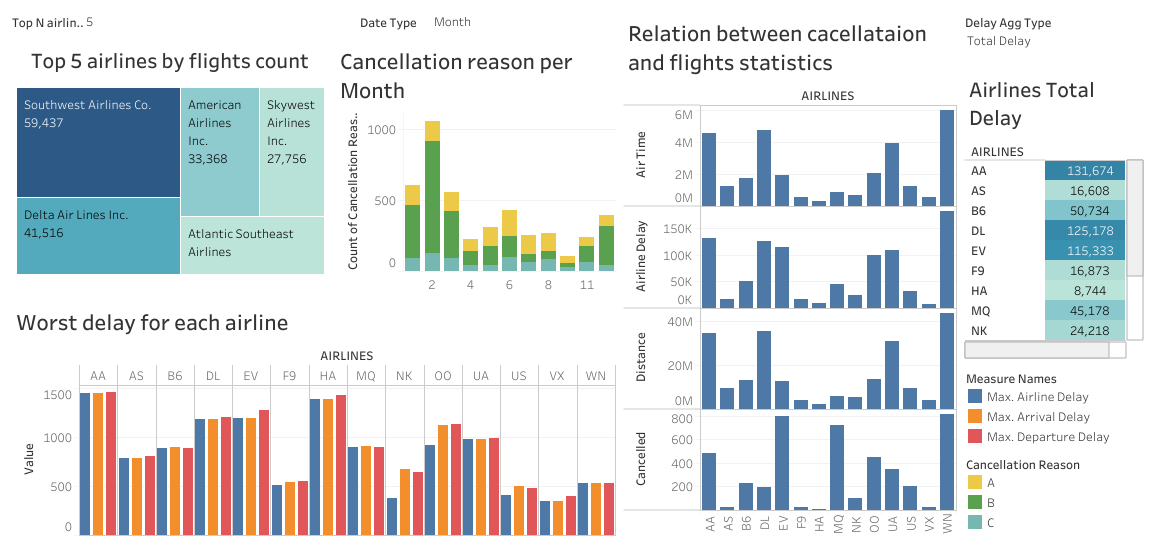

What the dashboard file says about the page in this screenshot:
{"tool":"tableau","page":{"name":"Dashboard 1","canvas":[1000,1000],"units":"permille","ordinal":0},"visuals":[{"type":"worksheet","title":"Sheet 6 (2)","mark":"Automatic","box":[7,13,105.5,193.9]},{"type":"worksheet","title":"Sheet 6 (6)","mark":"Automatic","box":[112.6,13,105.7,193.9]},{"type":"worksheet","title":"Sheet 6","mark":"Automatic","box":[218.2,13,171.6,193.9]},{"type":"worksheet","title":"Sheet 6 (3)","mark":"Automatic","box":[389.8,13,119.4,193.9]},{"type":"worksheet","title":"Sheet 6 (4)","mark":"Automatic","box":[509.2,13,177.3,193.9]},{"type":"worksheet","title":"Sheet 6 (5)","mark":"Automatic","box":[686.6,13,166,193.9]},{"type":"filter","title":"Sheet 6","param":"[federated.0olwbpc1j0nxiz11mnao608j8uqc].[none:title:nk]","box":[852.5,13,140.5,84.4]},{"type":"filter","title":"Sheet 6","param":"[federated.0olwbpc1j0nxiz11mnao608j8uqc].[none:type:nk]","box":[852.5,97.4,140.5,84.4]},{"type":"worksheet","title":"Sheet 1","mark":"Automatic","box":[7,206.9,445.1,430.9]},{"type":"worksheet","title":"Sheet 5","mark":"Automatic","rows":["show_id"],"cols":["rating"],"box":[452.1,206.9,400.4,273.4]},{"type":"worksheet","title":"Sheet 4","mark":"Pie","box":[852.5,207.6,140.5,779.4]},{"type":"worksheet","title":"Sheet 3","mark":"Automatic","rows":["listed_in"],"cols":["show_id"],"box":[452.1,480.3,400.4,506.7]},{"type":"worksheet","title":"Sheet 2","mark":"Automatic","rows":["show_id"],"cols":["date_added"],"box":[7,637.8,445.1,349.2]}]}

Visuals, with their boxes on the dashboard's canvas, which has no fixed pixel size, in thousandths of its width and height (x1, y1, x2, y2). These are canvas units, not pixel positions in the 1155x547 screenshot, which may show the page scaled, cropped or inside an application window:
"Sheet 6 (2)" worksheet: (7, 13, 112, 207)
"Sheet 6 (6)" worksheet: (113, 13, 218, 207)
"Sheet 6" worksheet: (218, 13, 390, 207)
"Sheet 6 (3)" worksheet: (390, 13, 509, 207)
"Sheet 6 (4)" worksheet: (509, 13, 686, 207)
"Sheet 6 (5)" worksheet: (687, 13, 853, 207)
"Sheet 6" filter: (852, 13, 993, 97)
"Sheet 6" filter: (852, 97, 993, 182)
"Sheet 1" worksheet: (7, 207, 452, 638)
"Sheet 5" worksheet: (452, 207, 852, 480)
"Sheet 4" worksheet (Pie marks): (852, 208, 993, 987)
"Sheet 3" worksheet: (452, 480, 852, 987)
"Sheet 2" worksheet: (7, 638, 452, 987)
